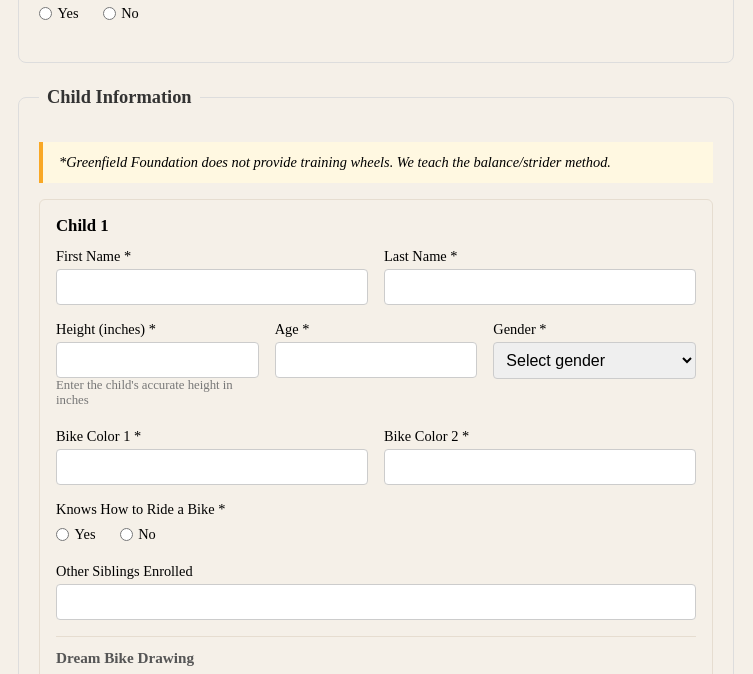
Test: ApplyView › height validation › shows error when height is zero
(page scrolled)
Type "0" into the field with id "child-0-height" at (157, 360), box [56,342,259,378]
(page scrolled)
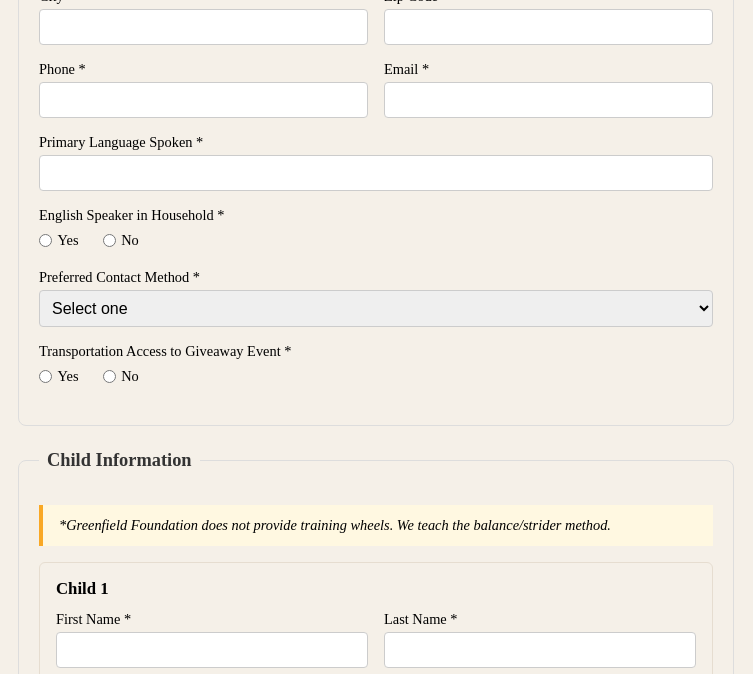
Submit the form
(page scrolled)
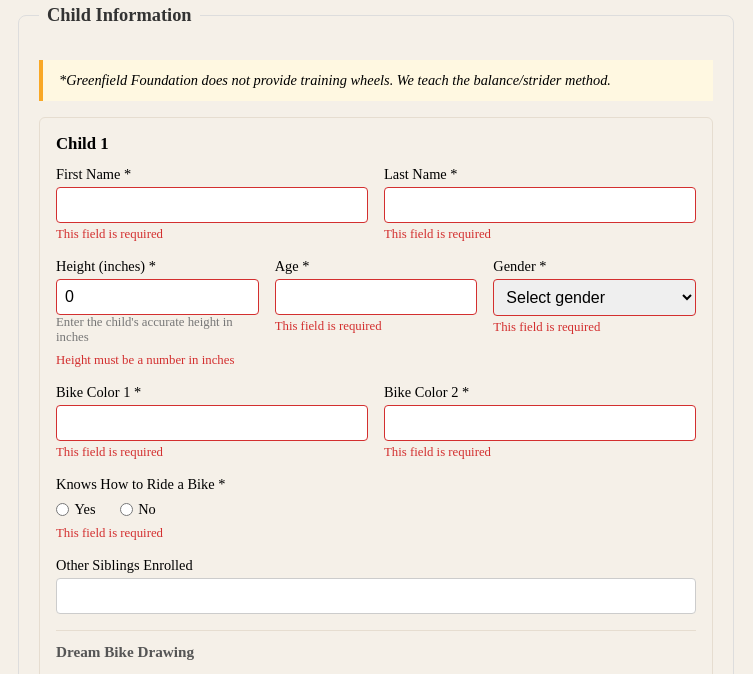
Expected: the message "Height must be a number in inches" is shown, [56,353,259,368]
